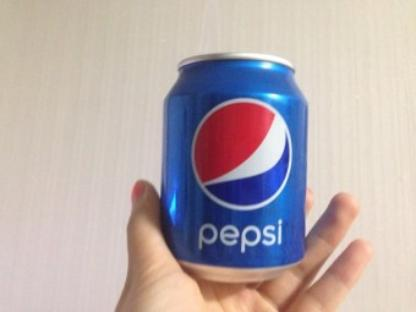Can: (160, 52, 312, 276)
